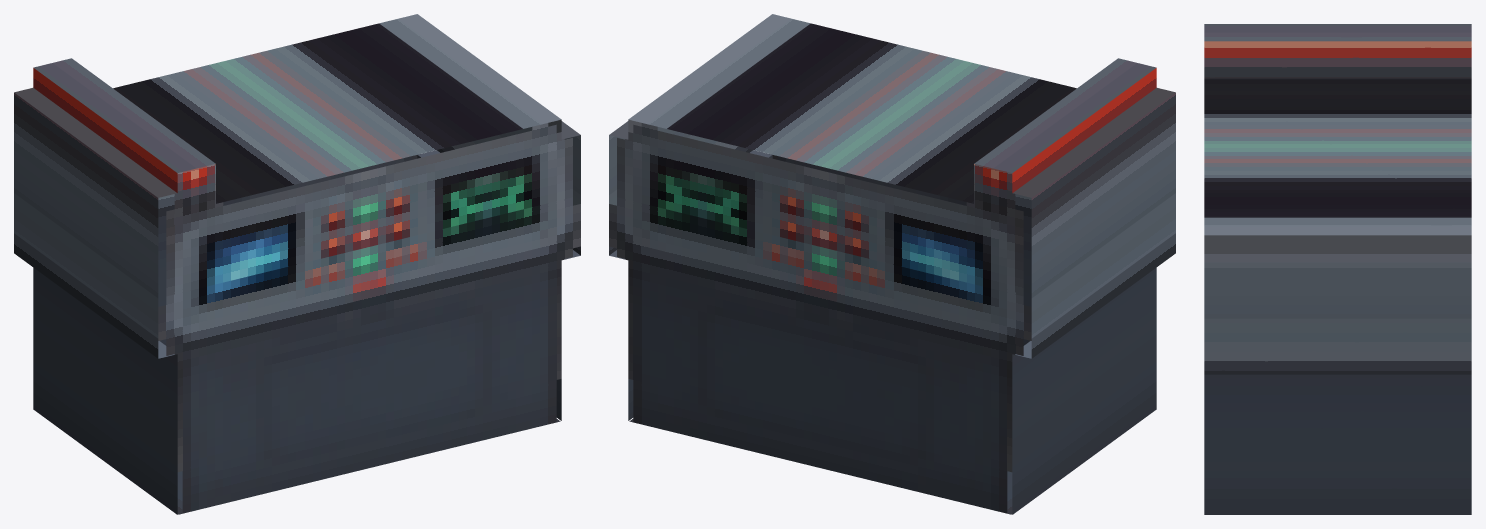
The model's file is console.obj.
3 renders of one model, left to right at view 1: azimuth 30°, elevation 25°; view 2: azimuth 150°, elevation 25°; view 3: azimuth 270°, elevation 25°, orthographic. The views are drawn at different scales.
Size of the model in its own units: 0.474 by 0.3878 by 0.2801.
